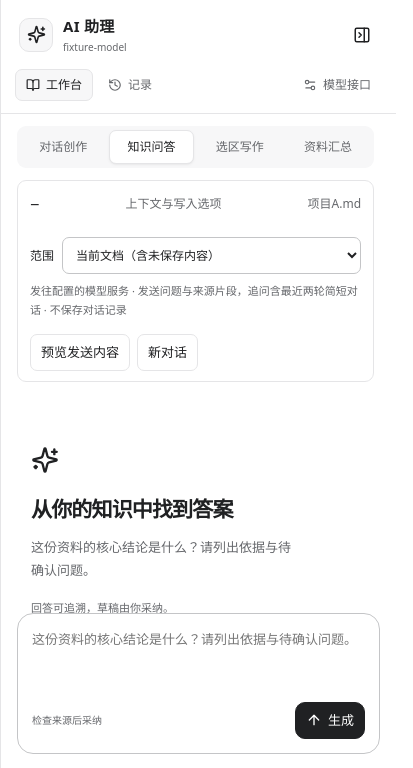
AI workspace › opens model settings in About and refreshes after a saved settings event
Expected: the text "fixture-model" is shown, 63,39 -> 127,55
Step 1. Click the button "模型接口" → (337, 85), box 292,69 -> 382,101
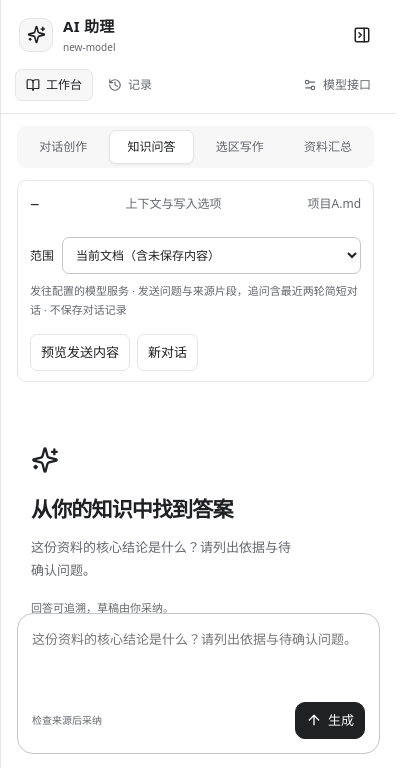
Now the text "new-model" is shown, box 63,39 -> 116,55
